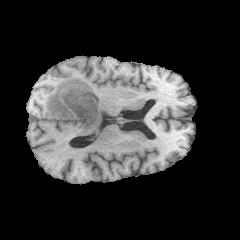glioma: (46, 77, 103, 135)
